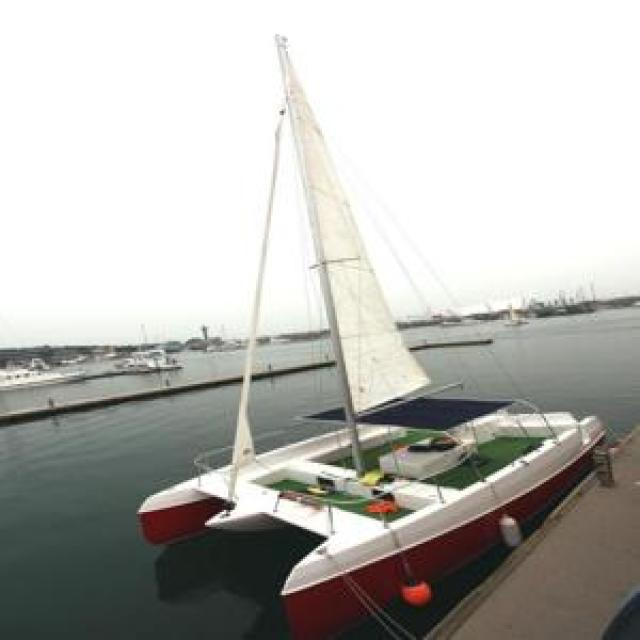sailboat: (152, 29, 593, 596)
